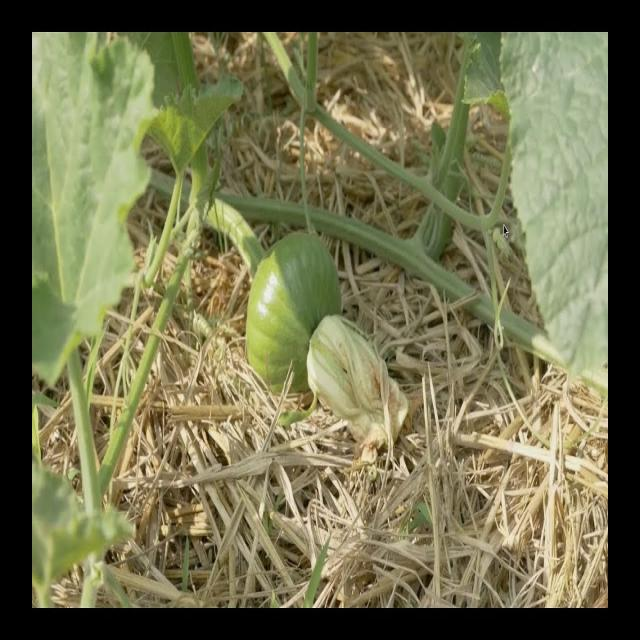flower: (299, 307, 413, 469)
squash: (246, 227, 342, 397)
